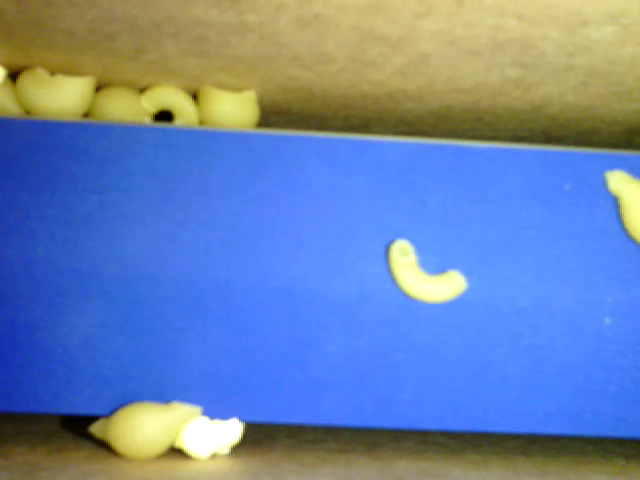elbow: (387, 238, 468, 304), (141, 84, 200, 125)
shell: (86, 400, 203, 463), (14, 66, 94, 120), (197, 82, 260, 130), (85, 84, 152, 123)
